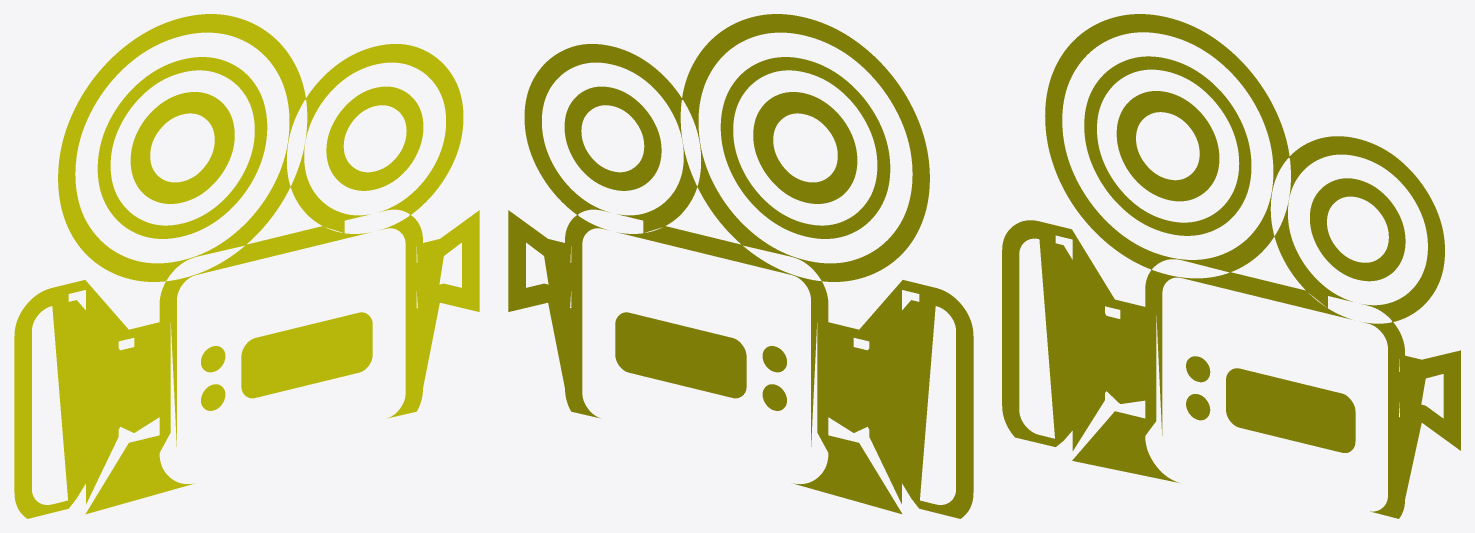
Rendered from movie-camera.glb.
3 views of the same model, side by side, from view 1: azimuth 30°, elevation 25°; view 2: azimuth 150°, elevation 25°; view 3: azimuth 330°, elevation 25° (orthographic).
Parts seen in each view (by area): view 1: Text.809_809; view 2: Text.809_809; view 3: Text.809_809.
Boxes of the visible parts, x1,y1,x2,y2 form: Text.809_809: [14, 14, 479, 518]; Text.809_809: [508, 14, 973, 518]; Text.809_809: [1002, 14, 1460, 518].
Bounding box in the file's own units: 1.05 × 1.02 × 3.6e-06.
